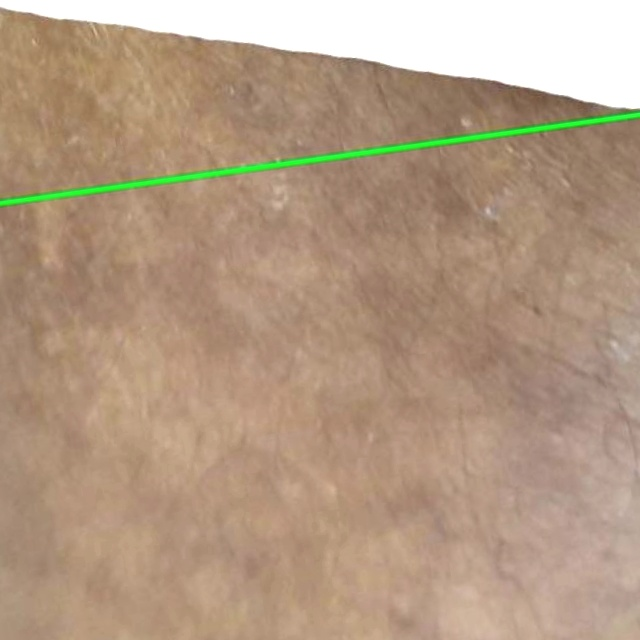Contact Dermatitis: (0, 0, 639, 203)
